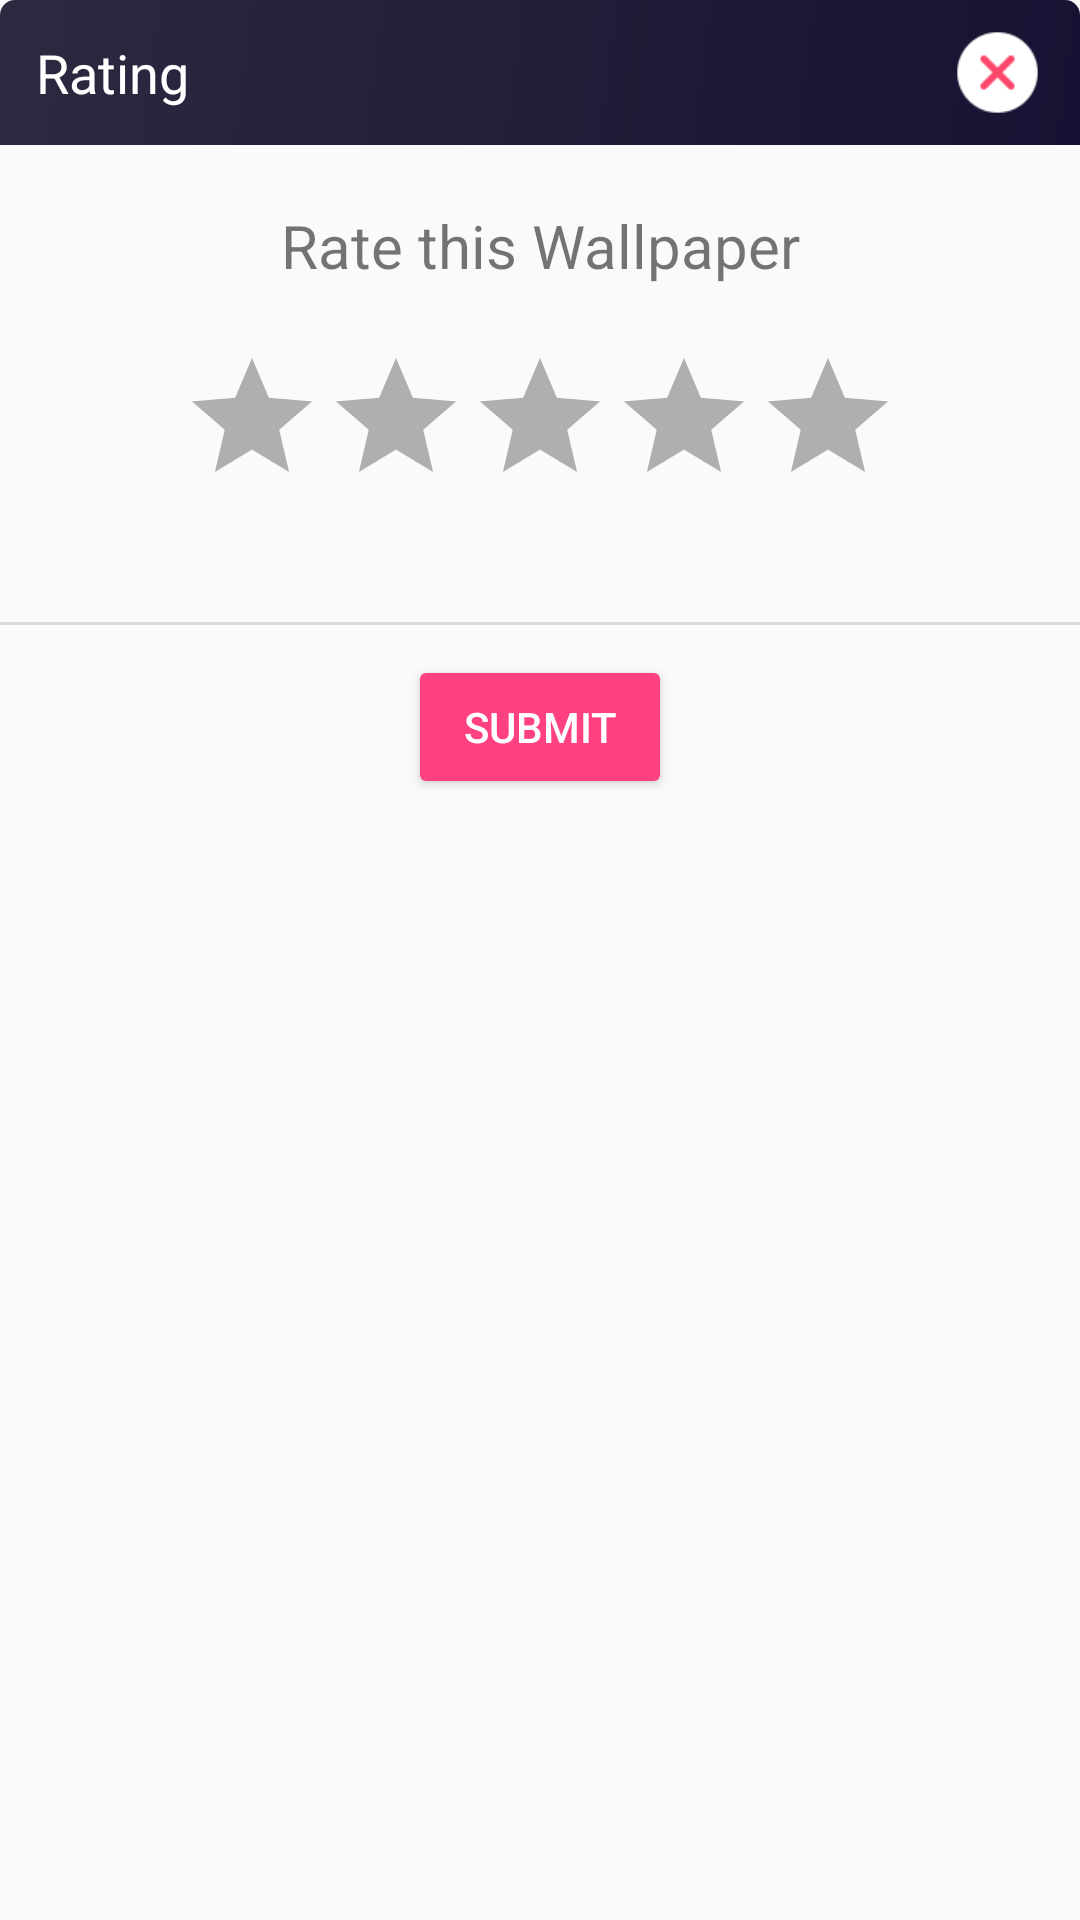

Icons on this 1080 x 1920 Android screen, each with the point to tap as [x,y]:
close: [997,72]
